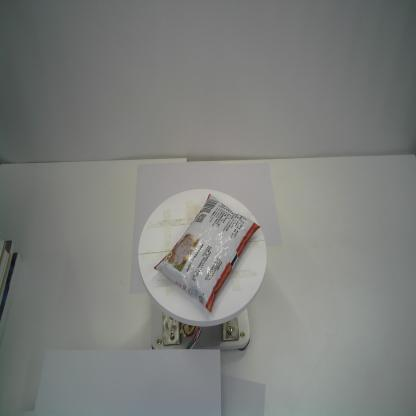Seasoner: (152, 192, 262, 316)
